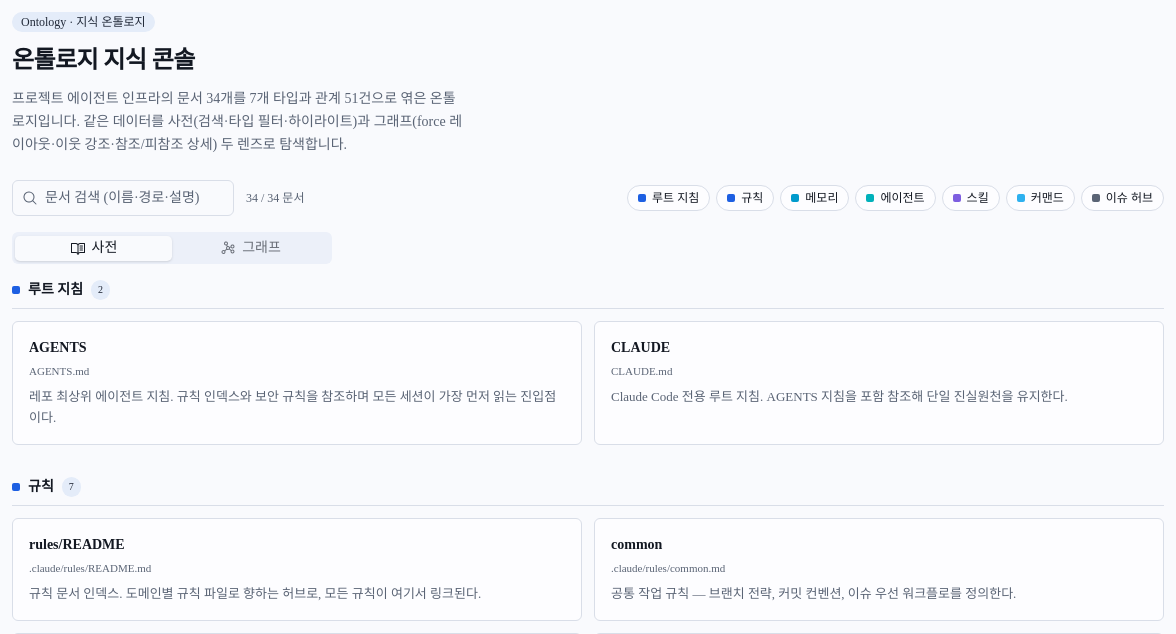
Test case: OntologyConsolePage › shows the empty state when nothing matches
Type "존재하지않는검색어" into the search field labelled "문서 검색" at (123, 198), box x1=12 y1=180 x2=234 y2=216
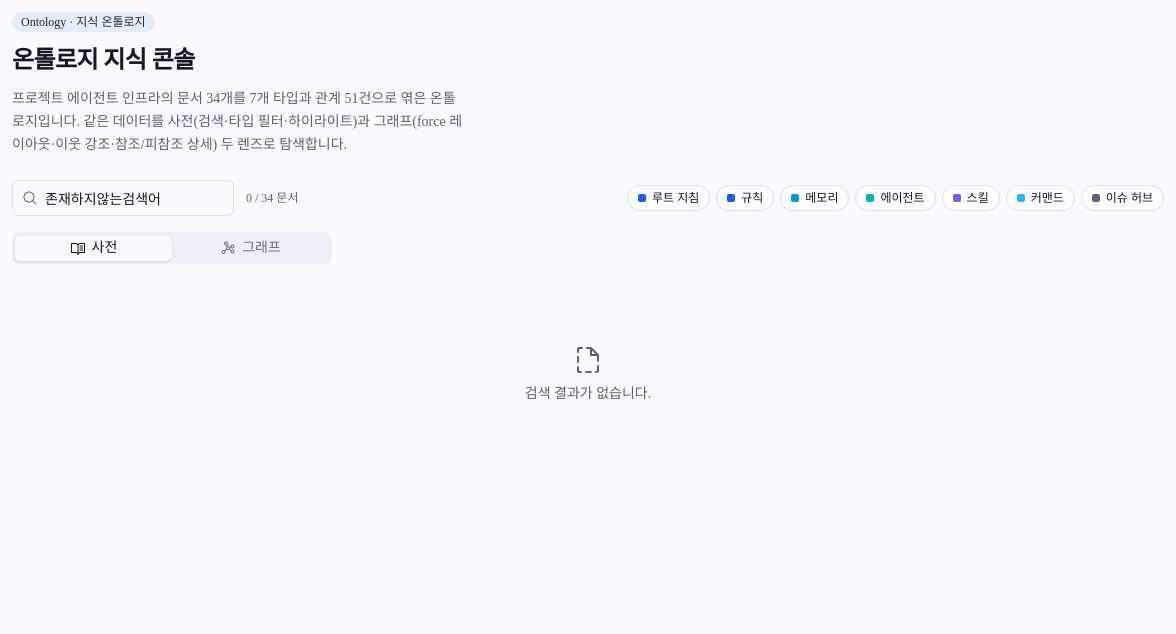
Now the text "검색 결과가 없습니다." is shown, box x1=525 y1=384 x2=651 y2=404
